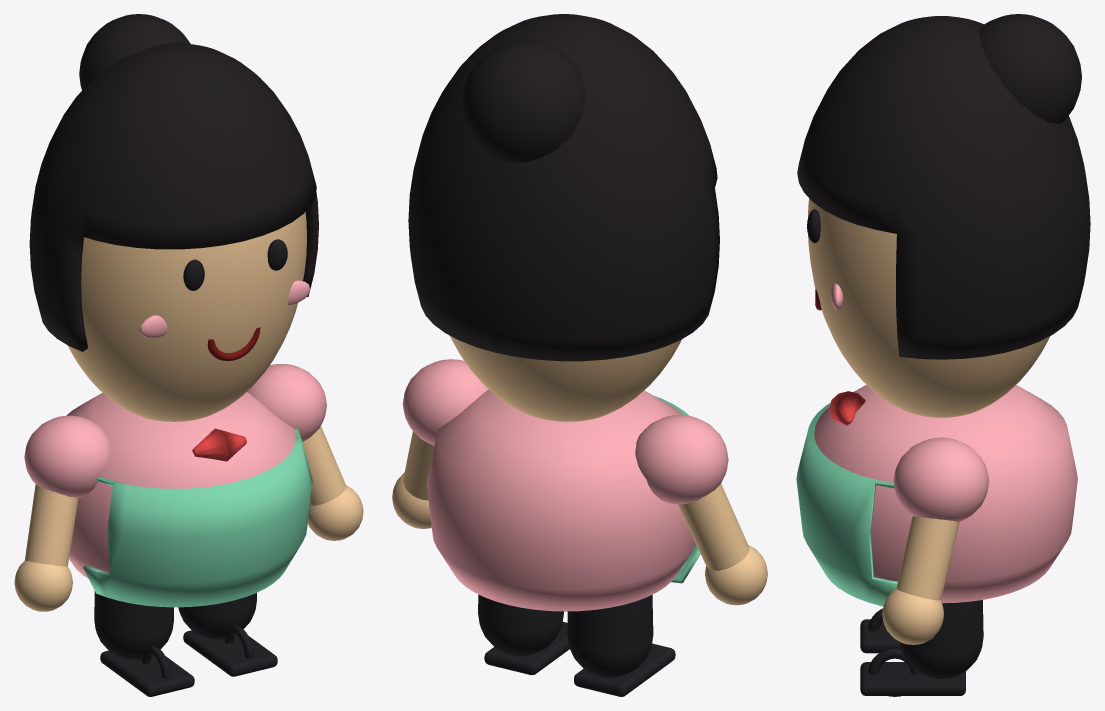
File: worker_server.glb
3 renders of one model, left to right at view 1: azimuth 30°, elevation 25°; view 2: azimuth 150°, elevation 25°; view 3: azimuth 270°, elevation 25°, orthographic. The views are drawn at different scales.
Visible parts, largest first — view 1: Hair, HeadSkin, Apron, Torso, Sleeve-1, Leg-1, Bun, Sleeve1, UpperArmR, HandR, Shoe1, Shoe-1 (+6 smaller); view 2: Hair, Torso, Bun, HeadSkin, Sleeve-1, Leg-1, Sleeve1, UpperArmR, Leg1, HandR, Shoe-1, Shoe1 (+2 smaller); view 3: Hair, Torso, HeadSkin, Apron, Bun, Sleeve1, Leg1, UpperArmL, Shoe1, HandL, Shoe-1, Bow.001 (+1 smaller).
Part boxes in pixels (x1,y1,x2,y2): Hair: (29, 43, 318, 351); HeadSkin: (68, 212, 306, 421); Apron: (83, 428, 312, 607); Torso: (66, 392, 295, 578); Sleeve-1: (24, 415, 110, 497); Leg-1: (94, 591, 173, 659); Bun: (79, 14, 190, 90); Sleeve1: (247, 364, 326, 441); UpperArmR: (25, 484, 78, 566); HandR: (14, 560, 72, 611); Shoe1: (183, 630, 277, 676); Shoe-1: (100, 650, 194, 696); Hair: (408, 14, 719, 361); Torso: (426, 389, 695, 611); Bun: (461, 40, 585, 162); HeadSkin: (449, 335, 681, 421); Sleeve-1: (635, 415, 728, 504); Leg-1: (567, 594, 653, 677); Sleeve1: (402, 359, 488, 445); UpperArmR: (678, 483, 749, 570); Leg1: (478, 594, 563, 655); HandR: (705, 545, 767, 605); Shoe-1: (574, 643, 675, 696); Shoe1: (484, 622, 569, 674); Hair: (797, 16, 1090, 359); Torso: (814, 384, 1077, 603); HeadSkin: (808, 198, 1049, 417); Apron: (796, 391, 897, 606); Bun: (979, 14, 1081, 123); Sleeve1: (893, 437, 989, 521); Leg1: (900, 600, 983, 678); UpperArmL: (896, 516, 959, 600); Shoe1: (860, 662, 965, 695); HandL: (882, 588, 943, 644); Shoe-1: (860, 619, 900, 653); Bow.001: (829, 391, 865, 425).
Bounding box in the file's own units: 0.7104 × 1.23 × 0.5016.
